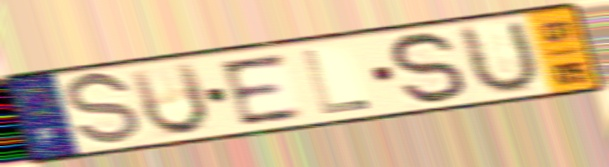E: (215, 49, 308, 129)
L: (298, 47, 375, 117)
S: (386, 29, 470, 109), (63, 68, 144, 150)
U: (125, 58, 214, 139), (457, 17, 543, 99)
